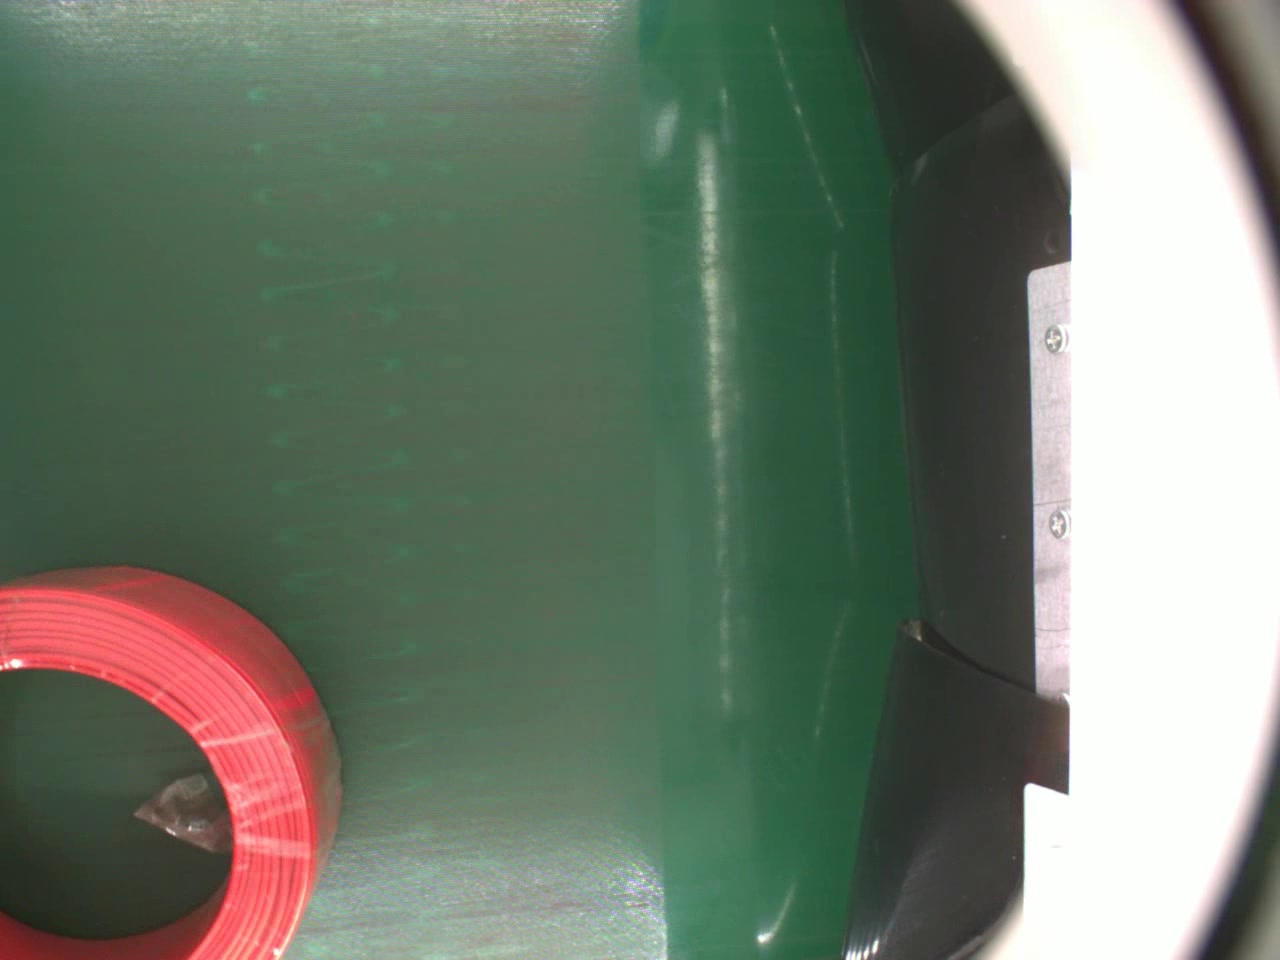red: (0, 565, 346, 960)
